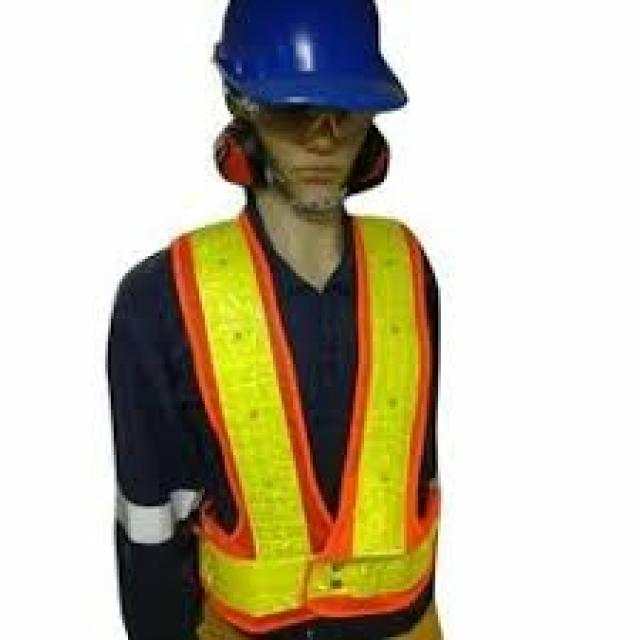Reflective-Jacket: (122, 191, 481, 637)
Safety-Helmet: (202, 0, 421, 128)
